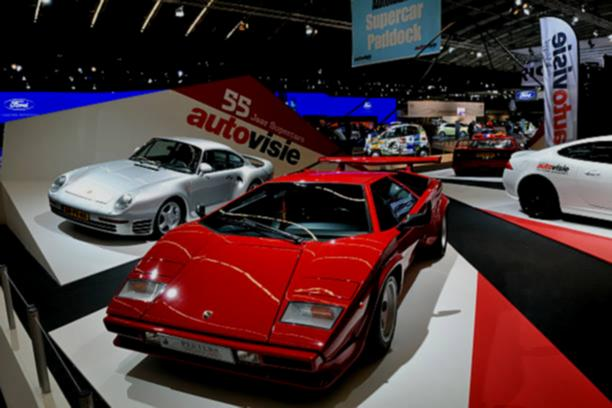porsche: (199, 306, 219, 324)
